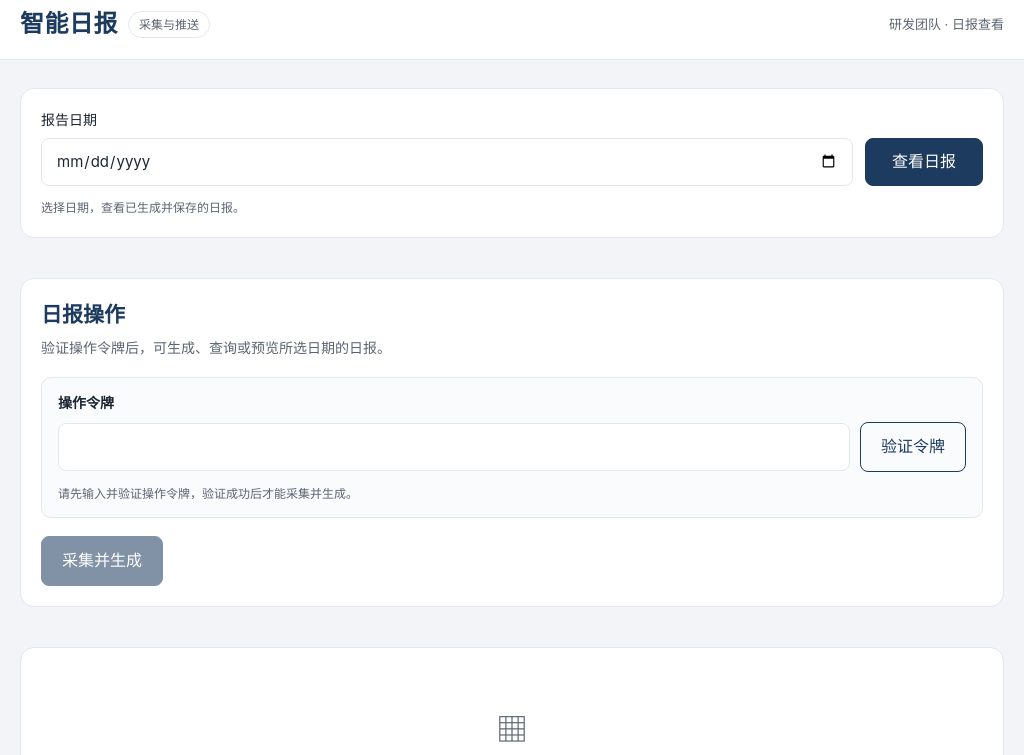
Test case: legacy_preview_does_not_claim_current_source_enablement
Step 1. Type "2026-09-25" into the date field labelled "报告日期" → (447, 162), box left=41, top=138, right=853, bottom=186
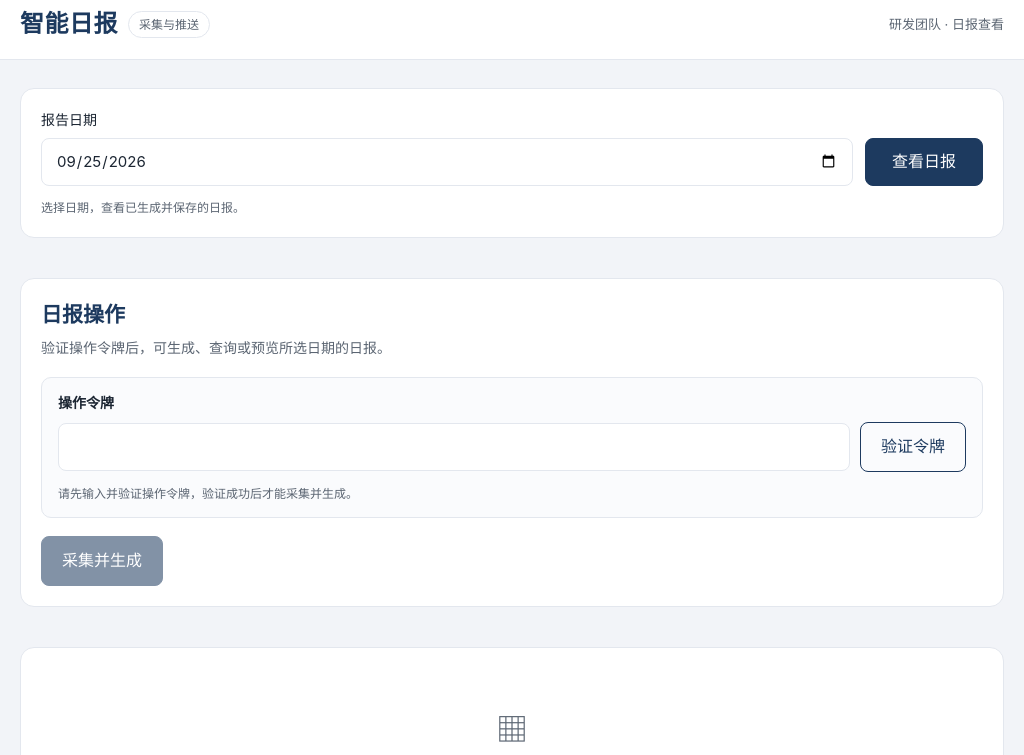
Step 2. Type "private-token" into the password field labelled "操作令牌" → (454, 447), box left=58, top=423, right=850, bottom=471
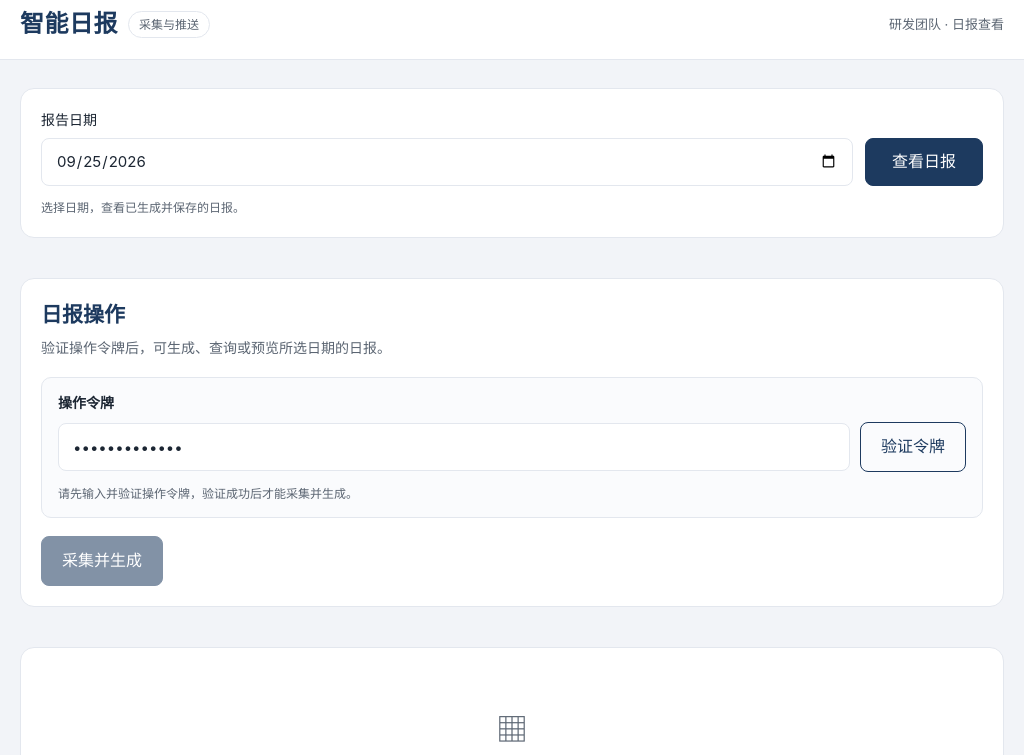
Step 3. Click the button "验证令牌" → (913, 447), box left=860, top=422, right=966, bottom=472
(page scrolled)
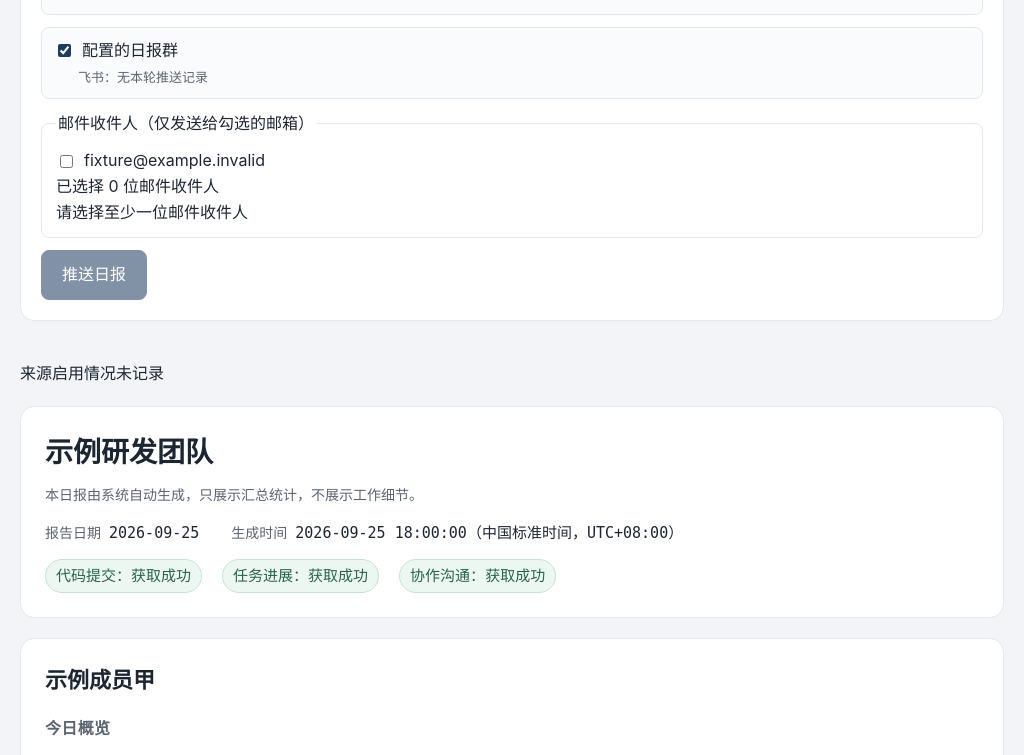
Now the text "来源启用情况未记录" is shown, box left=20, top=363, right=164, bottom=383
